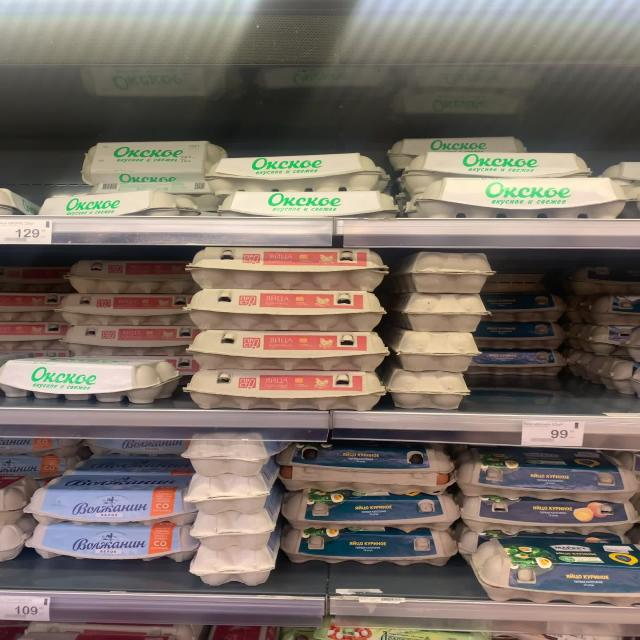egg box: (462, 536, 638, 609), (404, 170, 626, 216), (4, 352, 186, 407), (460, 451, 638, 504), (188, 243, 392, 289), (286, 486, 465, 536), (276, 441, 457, 490), (185, 368, 387, 411), (18, 474, 220, 516), (178, 329, 394, 368), (182, 284, 388, 321), (30, 516, 202, 560), (396, 152, 583, 192), (204, 152, 394, 191), (454, 495, 630, 537), (279, 529, 458, 570), (198, 188, 392, 220), (61, 317, 208, 354), (58, 291, 212, 325), (450, 345, 568, 386), (60, 257, 193, 290), (39, 192, 188, 221), (69, 141, 213, 169), (382, 133, 534, 158), (84, 174, 220, 196), (471, 317, 572, 346), (475, 289, 572, 314), (2, 292, 66, 323), (4, 318, 70, 346)
